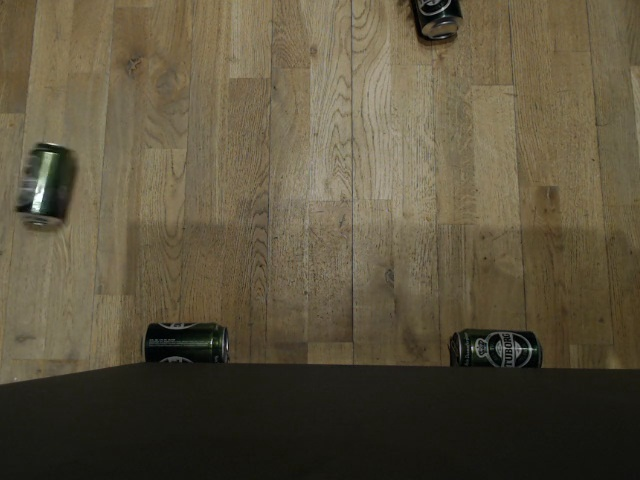beer: (11, 140, 77, 228), (409, 0, 464, 45)
